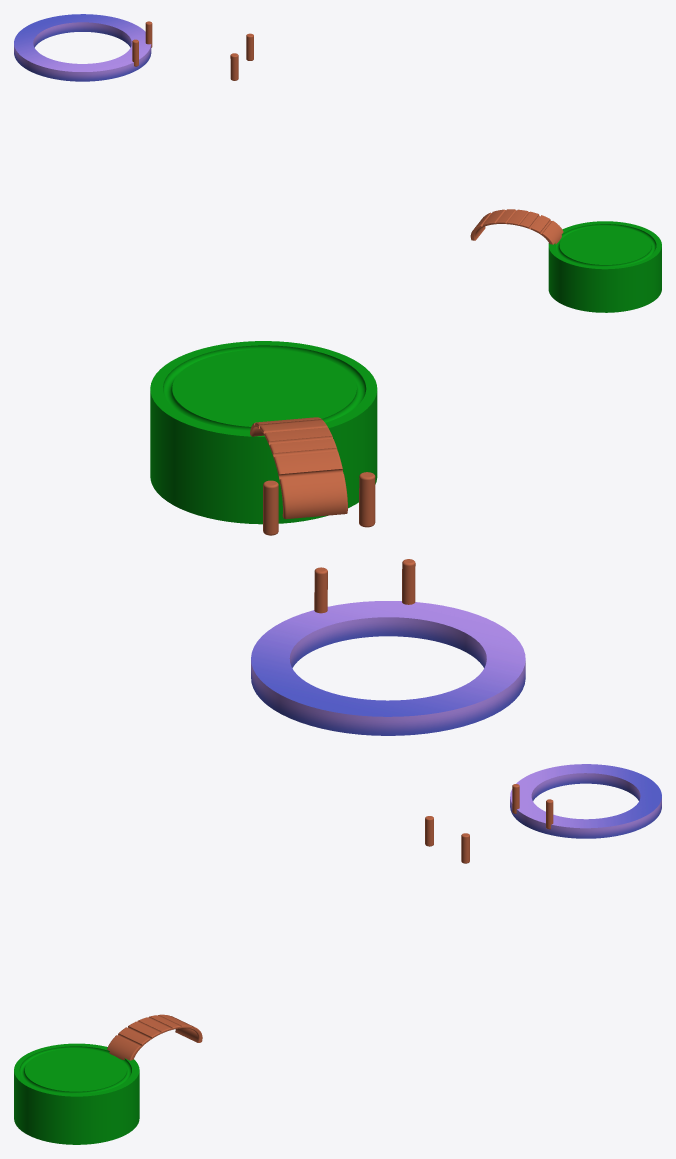
File: Treasure Island.obj
3 views of the same model, one above another, from view 1: azimuth 30°, elevation 25°; view 2: azimuth 150°, elevation 25°; view 3: azimuth 270°, elevation 25° (orthographic). The views are drawn at different scales.
Parts seen in each view (by area): view 1: 005_Main_level_grass, 006_Water_-_Treasure_Island_1, 004_Bridge; view 2: 005_Main_level_grass, 006_Water_-_Treasure_Island_1, 004_Bridge, 001_Cylinder_7, 002_Cylinder_6, 000_Cylinder_9, 003_Cylinder_8; view 3: 005_Main_level_grass, 006_Water_-_Treasure_Island_1, 004_Bridge.
Part boxes in pixels (<box>): 005_Main_level_grass: <box>548,221,661,312</box>; 006_Water_-_Treasure_Island_1: <box>14,14,151,81</box>; 004_Bridge: <box>470,209,563,244</box>; 005_Main_level_grass: <box>150,341,377,524</box>; 006_Water_-_Treasure_Island_1: <box>251,601,525,735</box>; 004_Bridge: <box>250,417,347,519</box>; 001_Cylinder_7: <box>359,472,375,527</box>; 002_Cylinder_6: <box>263,480,278,535</box>; 000_Cylinder_9: <box>314,567,327,613</box>; 003_Cylinder_8: <box>402,559,415,604</box>; 005_Main_level_grass: <box>14,1043,139,1144</box>; 006_Water_-_Treasure_Island_1: <box>510,764,661,838</box>; 004_Bridge: <box>107,1014,202,1060</box>.
Bounding box in the file's own units: 1142 × 460 × 1445.
